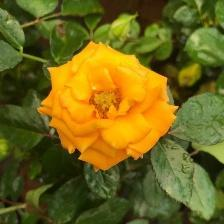rose: (37, 39, 182, 175)
